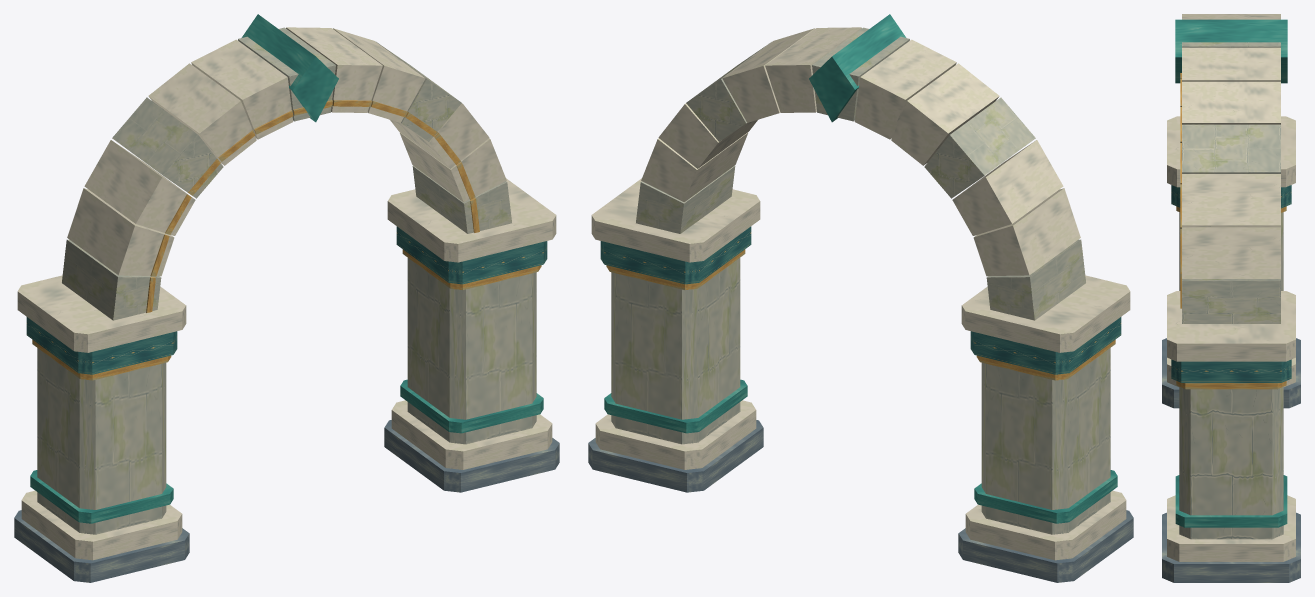
The model's file is ProcessionArch.fbx.
3 renders of one model, left to right at view 1: azimuth 30°, elevation 25°; view 2: azimuth 150°, elevation 25°; view 3: azimuth 270°, elevation 25°, orthographic. The views are drawn at different scales.
Visible parts, largest first — view 1: ProcessionArch; view 2: ProcessionArch; view 3: ProcessionArch.
Part boxes in pixels (x1=…): ProcessionArch: x1=14, y1=14, x2=559, y2=582; ProcessionArch: x1=588, y1=14, x2=1133, y2=582; ProcessionArch: x1=1162, y1=14, x2=1300, y2=582.
Size of the model in its own units: 1092 by 998 by 280.
1 material, 1 textured.
